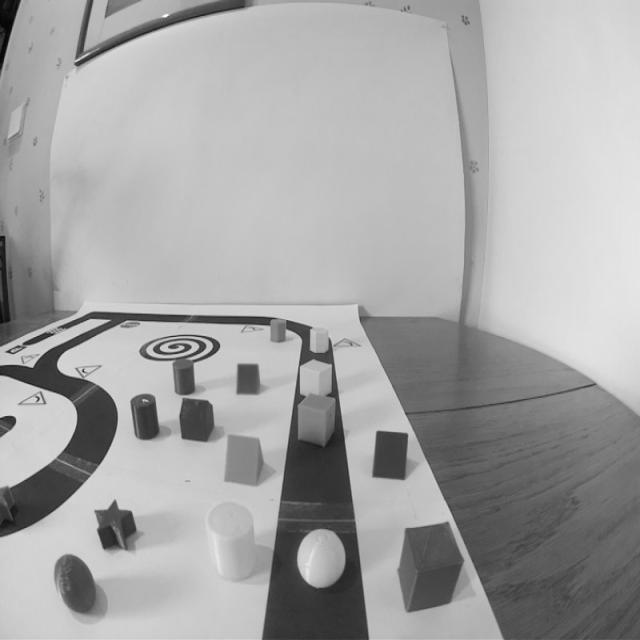ball: (294, 522, 349, 594), (48, 550, 99, 620)
cube: (395, 512, 468, 619), (295, 388, 340, 454), (297, 356, 335, 406), (268, 316, 288, 348)
cylinder: (205, 496, 259, 588), (127, 387, 162, 445), (170, 356, 197, 398)
hexagon: (308, 323, 332, 359)
home: (177, 393, 219, 445)
lineStraight: (263, 453, 369, 640)
nest: (133, 330, 226, 366)
star: (91, 493, 141, 558)
triangle: (220, 429, 267, 490), (369, 424, 416, 483), (234, 357, 264, 401)
